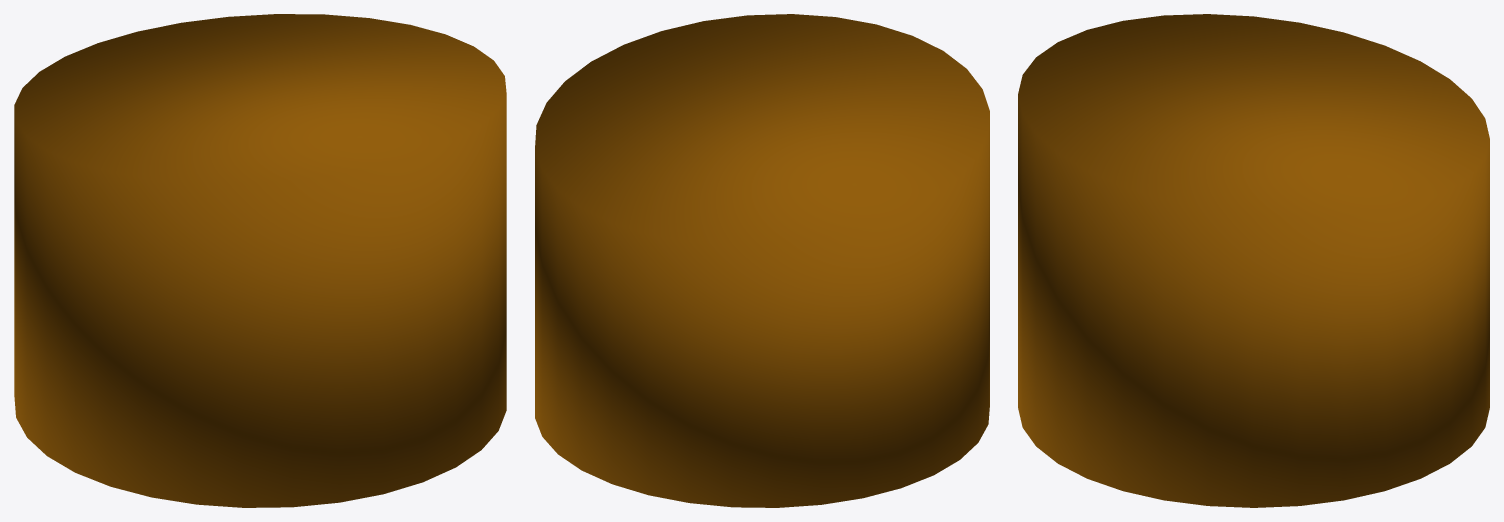
The model's file is beer.fbx.
3 views of the same model, side by side, from view 1: azimuth 30°, elevation 25°; view 2: azimuth 150°, elevation 25°; view 3: azimuth 270°, elevation 25° (orthographic). The views are drawn at different scales.
Parts seen in each view (by area): view 1: Cylinder; view 2: Cylinder; view 3: Cylinder.
Boxes of the visible parts, x1,y1,x2,y2 form: Cylinder: (14,14,506,507); Cylinder: (535,14,989,507); Cylinder: (1018,14,1489,507).
Bounding box in the file's own units: 200 × 147 × 200.
